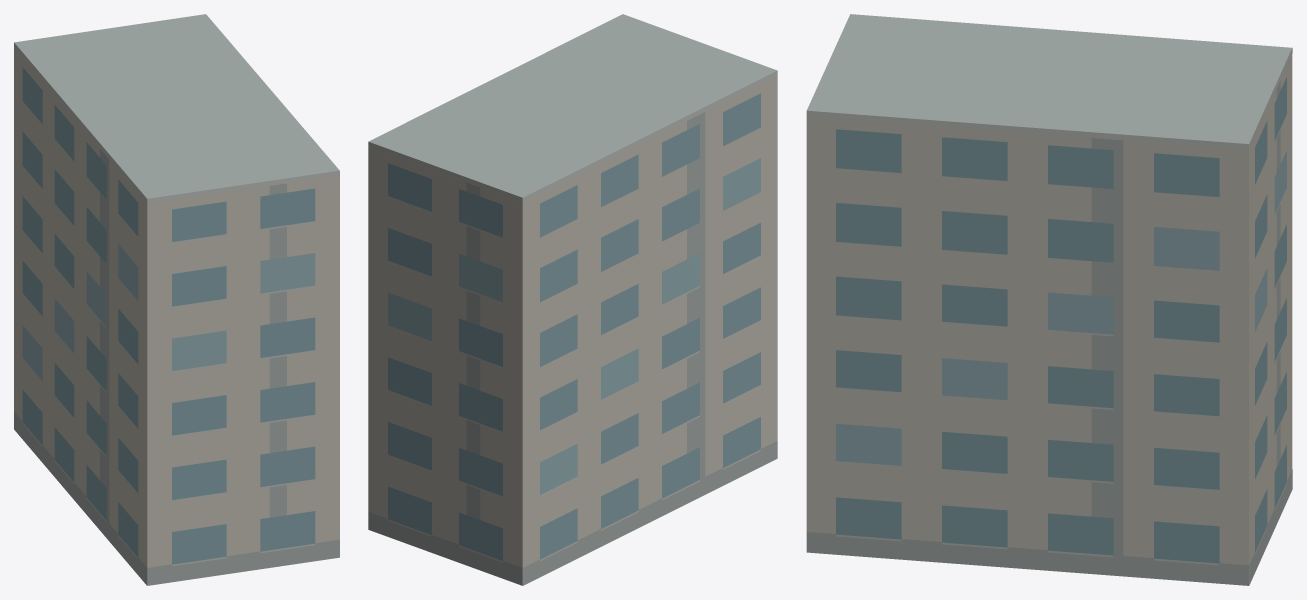
Rendered from survey-upis-32714448.glb.
3 renders of one model, left to right at view 1: azimuth 30°, elevation 25°; view 2: azimuth 150°, elevation 25°; view 3: azimuth 270°, elevation 25°, orthographic. The views are drawn at different scales.
Visible parts, largest first — view 1: survey-upis-32714448.tmp; view 2: survey-upis-32714448.tmp; view 3: survey-upis-32714448.tmp.
Boxes of the visible parts, box(x1,y1,x2,y2) form: survey-upis-32714448.tmp: box(14, 14, 339, 585); survey-upis-32714448.tmp: box(368, 14, 777, 585); survey-upis-32714448.tmp: box(806, 14, 1292, 585).
Size of the model in its own units: 11.56 by 18.3 by 18.24.
